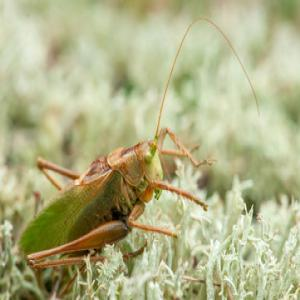locust: (19, 110, 193, 286)
